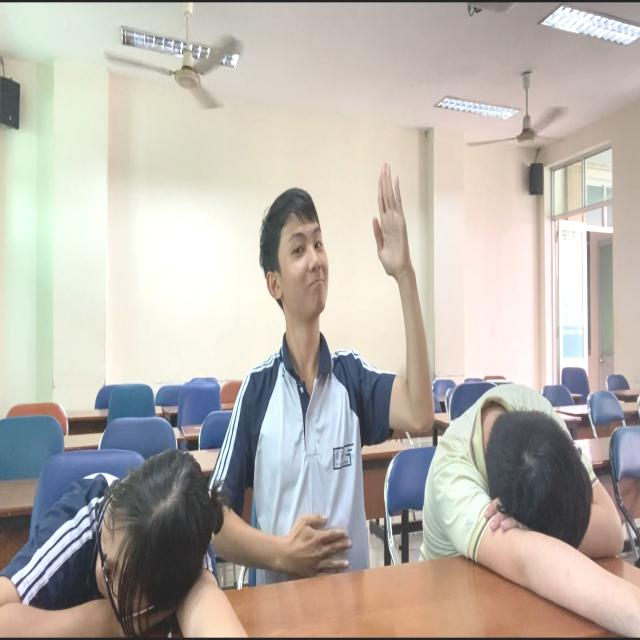raise_hand: (245, 148, 427, 640)
sleep: (414, 328, 640, 640), (1, 385, 269, 640)
